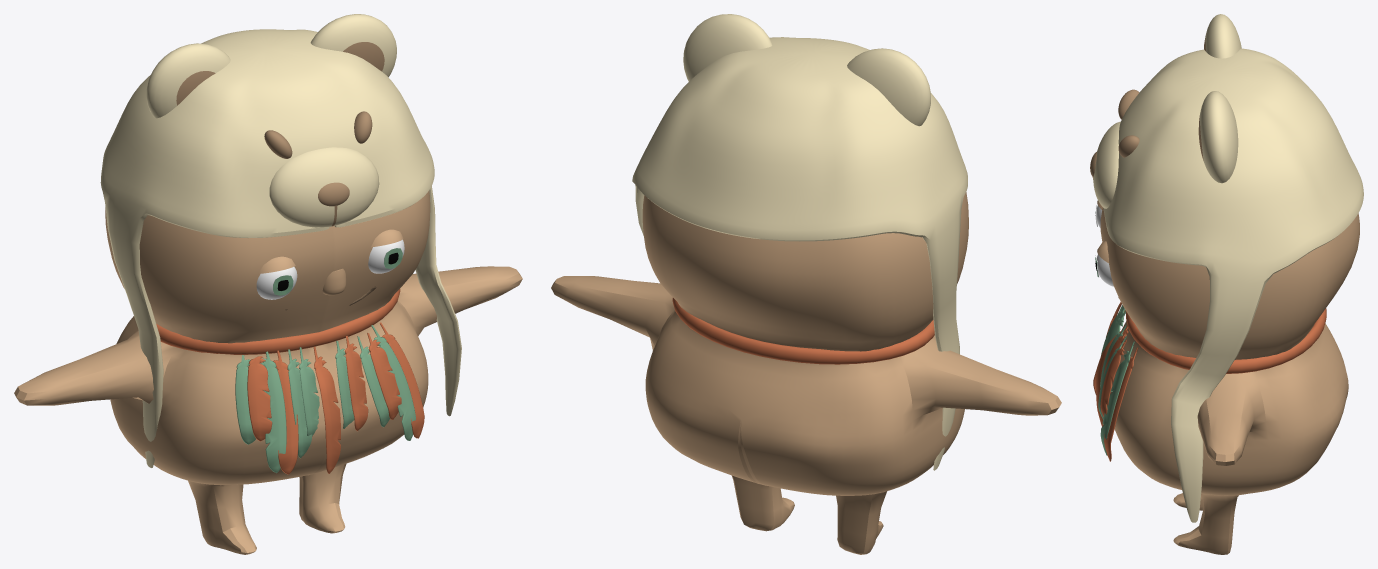
The model's file is karaktercute.fbx.
3 views of the same model, side by side, from view 1: azimuth 30°, elevation 25°; view 2: azimuth 150°, elevation 25°; view 3: azimuth 270°, elevation 25° (orthographic). The views are drawn at different scales.
Parts seen in each view (by area): view 1: Sphere.002, Sphere.007, Torus.008; view 2: Sphere.002, Sphere.007, Torus.008; view 3: Sphere.007, Sphere.002, Torus.008.
Boxes of the visible parts, box(x1,y1,x2,y2) form: Sphere.002: box(14, 190, 522, 554); Sphere.007: box(100, 14, 461, 467); Torus.008: box(156, 289, 424, 474); Sphere.002: box(551, 192, 1061, 554); Sphere.007: box(632, 14, 967, 470); Torus.008: box(672, 298, 934, 364); Sphere.007: box(1090, 14, 1363, 522); Sphere.002: box(1095, 200, 1359, 554); Torus.008: box(1093, 302, 1326, 461).
Size of the model in its own units: 1160 by 584 by 1115.
